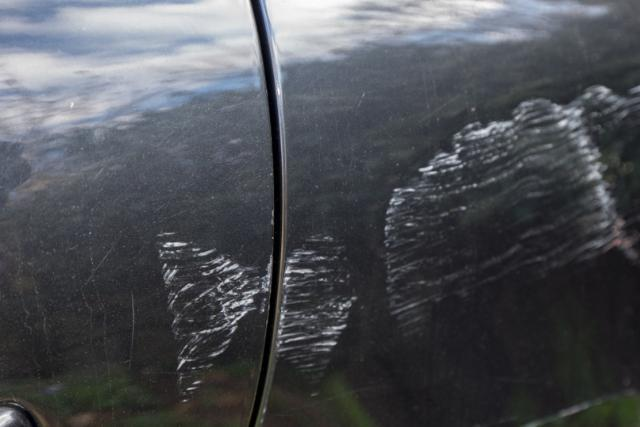Door: (139, 152, 271, 404)
Fender: (277, 73, 640, 393)
